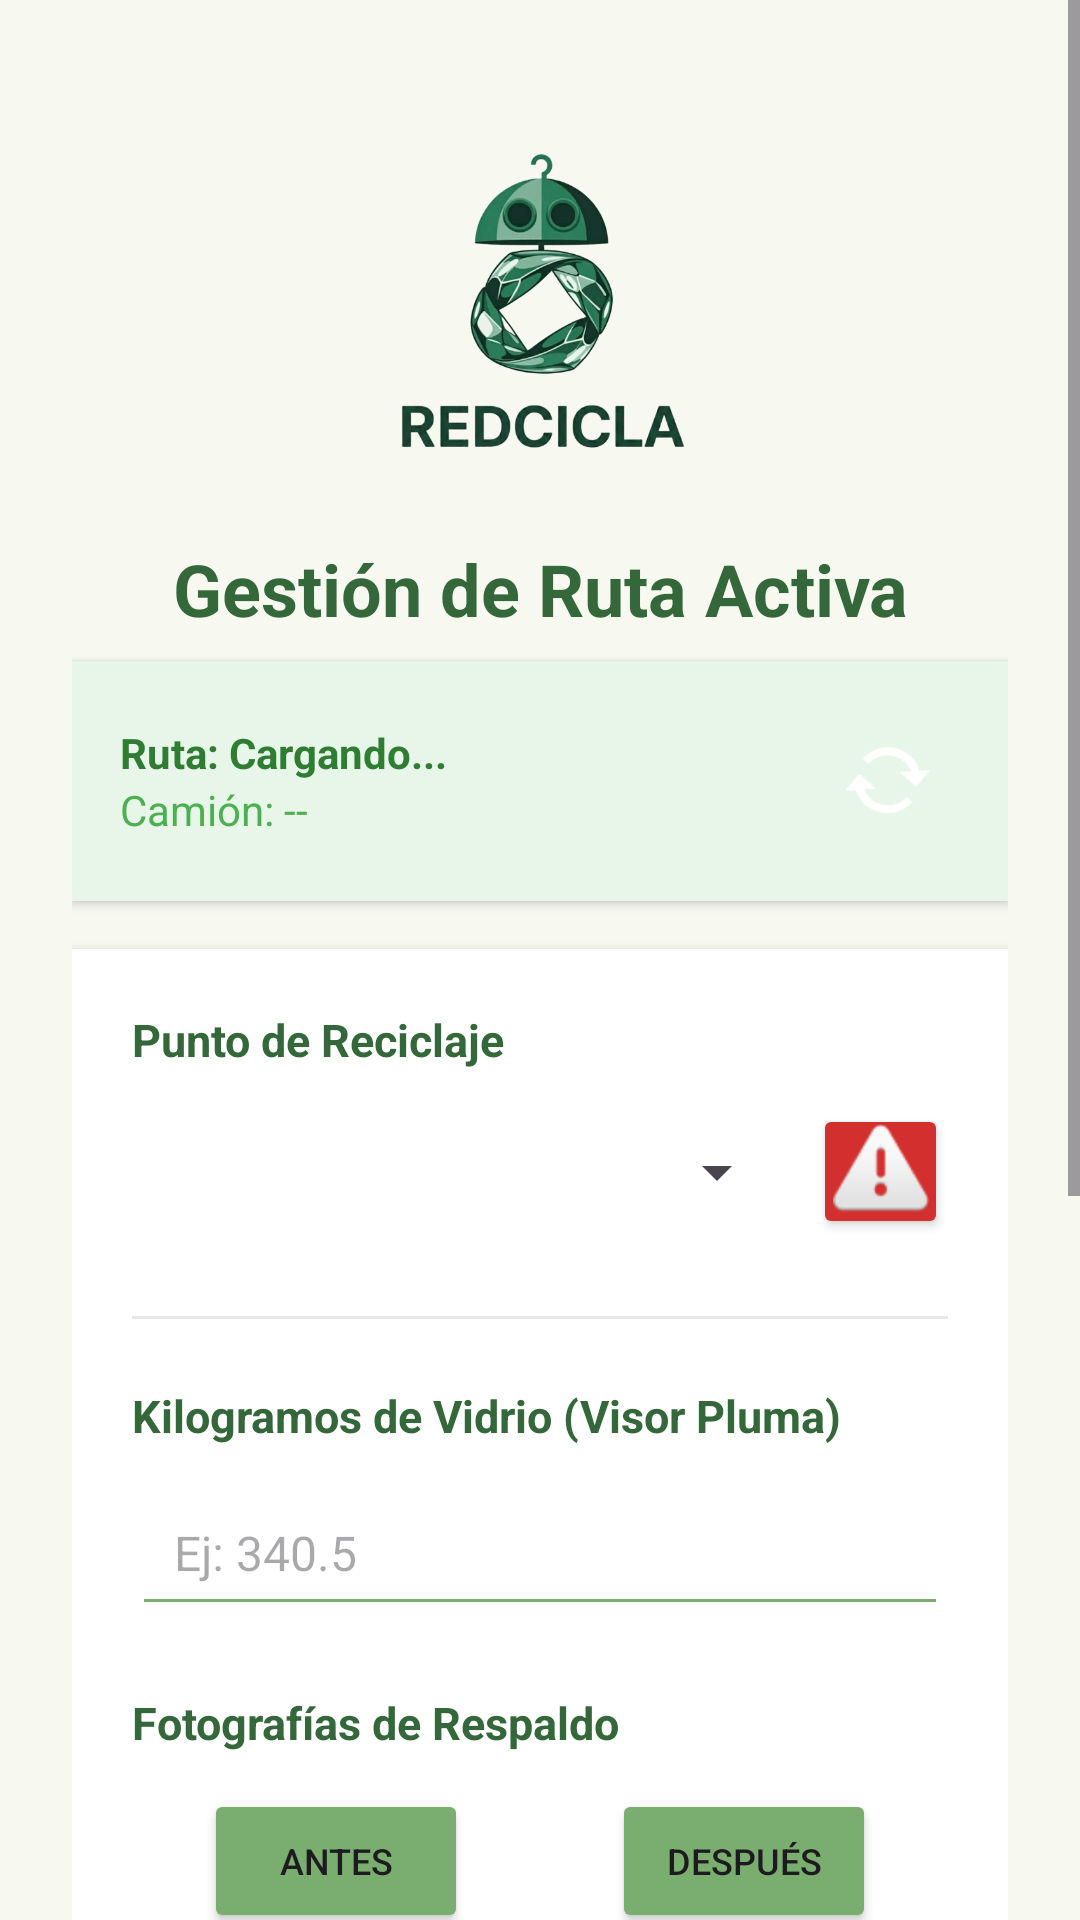

Screen size 1080×1920. Icon name, then its box in pixels as bbox=[x1, y1, x2, y2]:
Reportar Problema: bbox=[825, 1122, 937, 1224]
